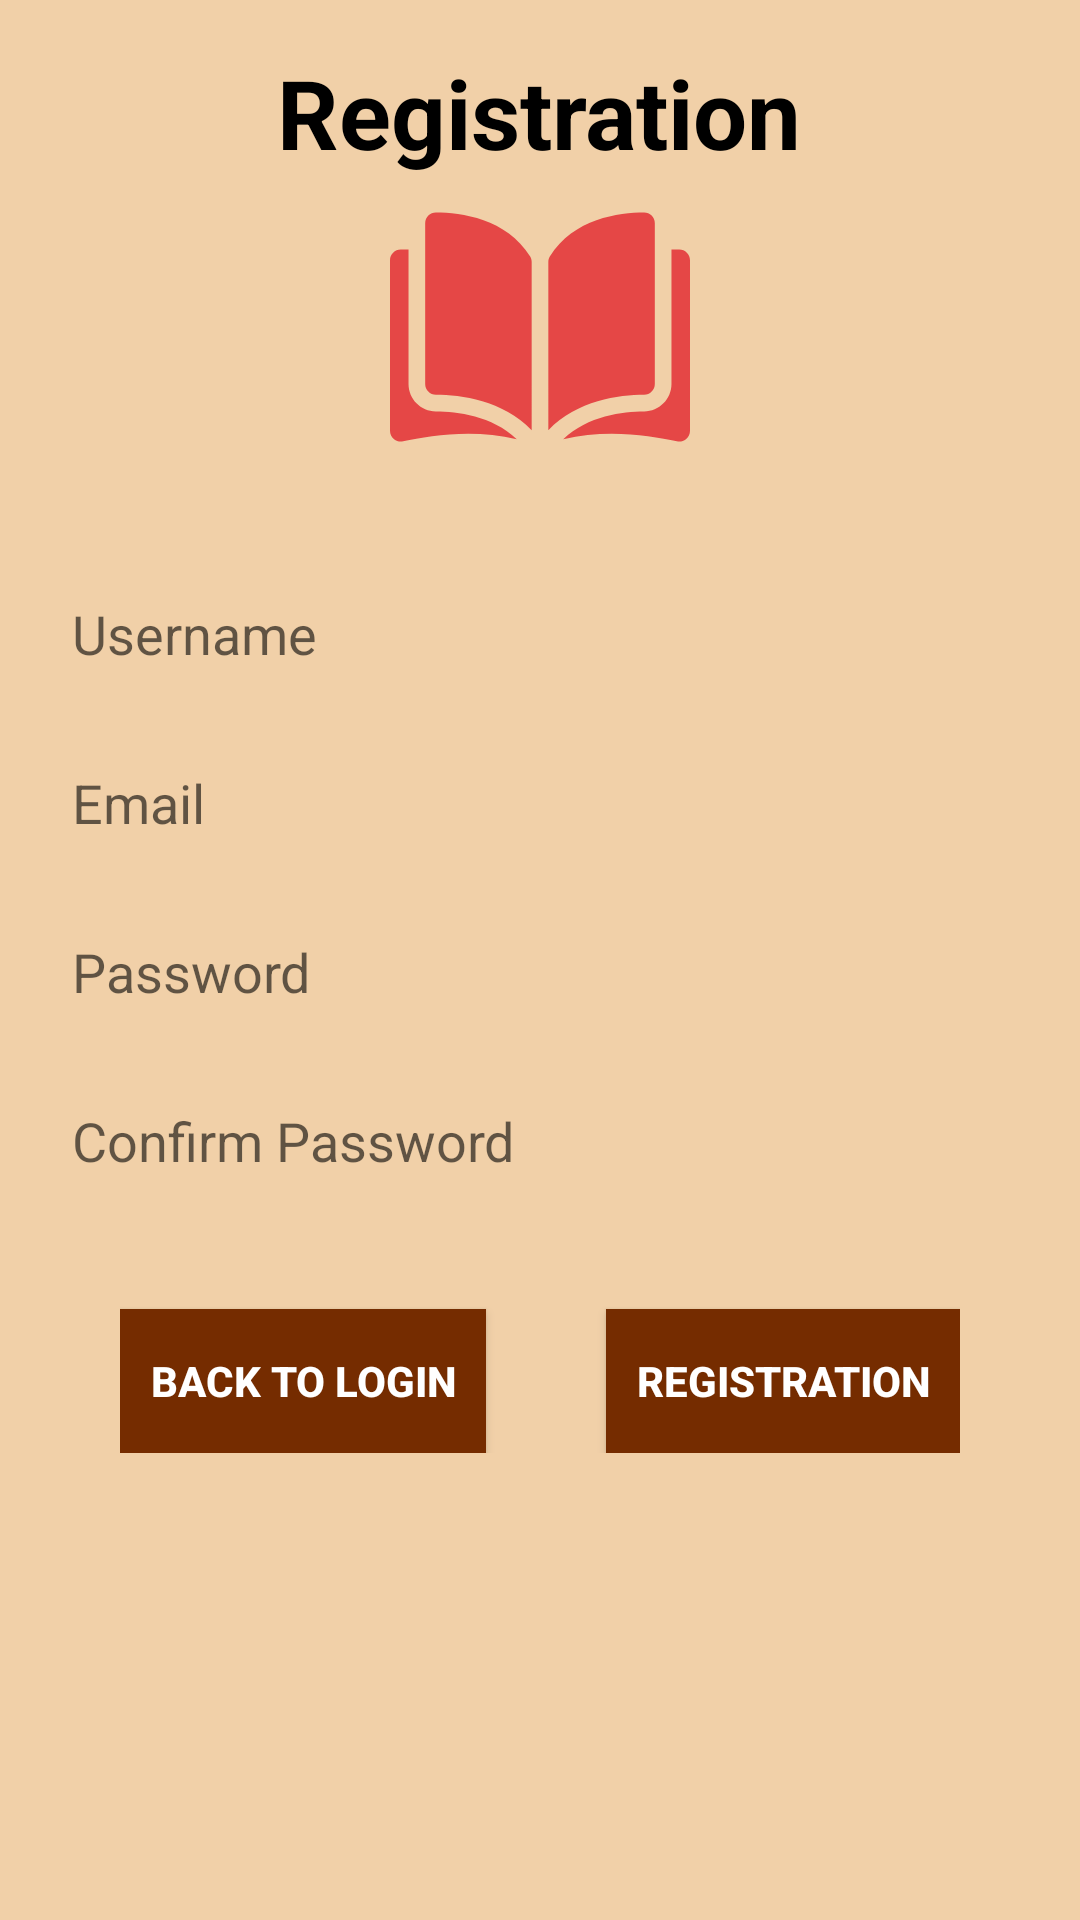

Locate icon controls on the screen. Image size 1080 × 1920, boxes as (x1, y1, x2, y2).
open book: (390, 212, 690, 442)
